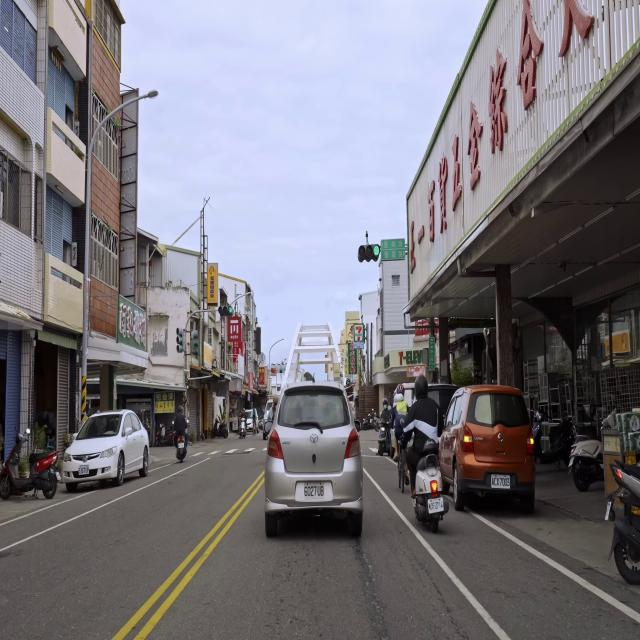green light: (357, 245, 380, 258), (218, 304, 233, 316)
